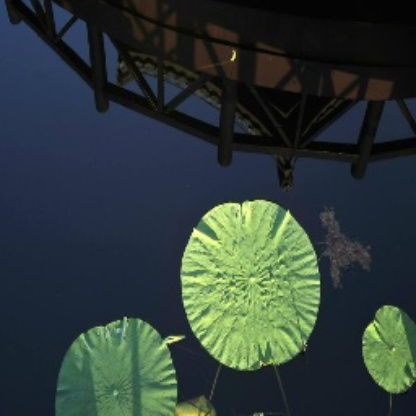leaf: (178, 198, 323, 372), (361, 300, 416, 396)
